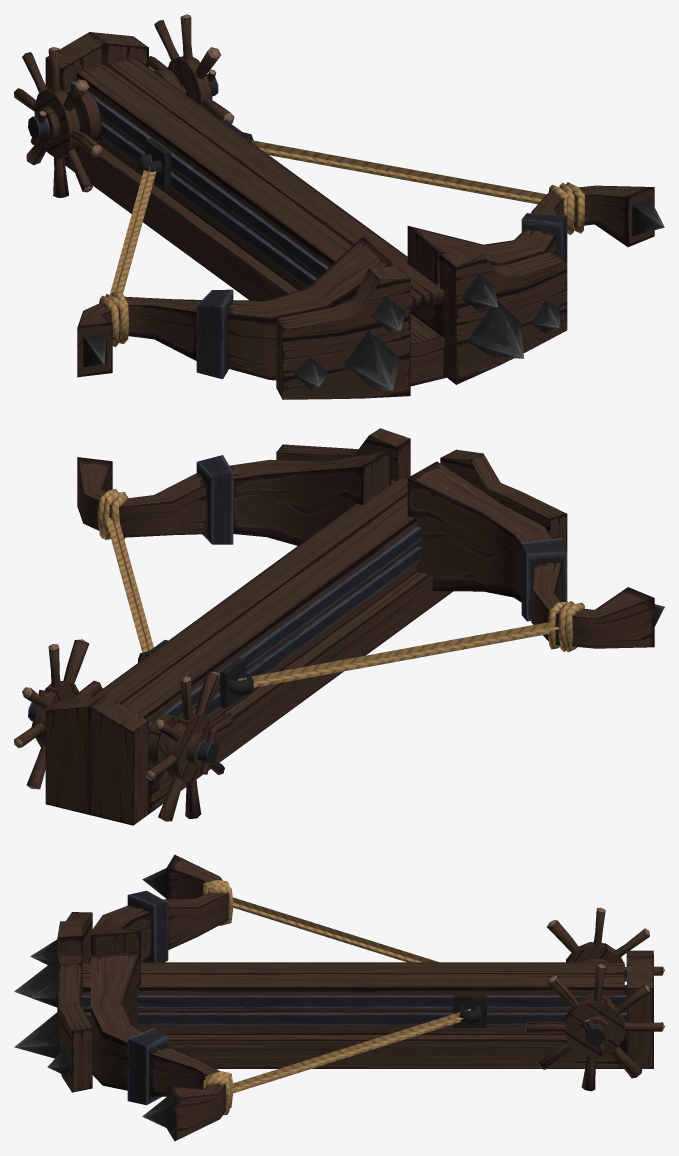
Rendered from SM_PROP_ballista_barrel_battle.fbx.
The picture shows the model from 3 angles, top to bottom: view 1: azimuth 30°, elevation 25°; view 2: azimuth 150°, elevation 25°; view 3: azimuth 270°, elevation 25°; orthographic projection. The views are drawn at different scales.
Visible parts, largest first — view 1: SM_PROP_ballista_barrel_battle, SM_PROP_ballista_winch_battle, SM_PROP_ballista_rope_L_battle, SM_PROP_ballista_rope_R_battle, SM_PROP_ballista_handle_battle; view 2: SM_PROP_ballista_barrel_battle, SM_PROP_ballista_winch_battle, SM_PROP_ballista_rope_R_battle, SM_PROP_ballista_rope_L_battle, SM_PROP_ballista_handle_battle; view 3: SM_PROP_ballista_barrel_battle, SM_PROP_ballista_winch_battle, SM_PROP_ballista_rope_L_battle, SM_PROP_ballista_rope_R_battle, SM_PROP_ballista_handle_battle.
Boxes of the visible parts, box(x1,y1,x2,y2) form: SM_PROP_ballista_barrel_battle: box(45, 32, 664, 399); SM_PROP_ballista_winch_battle: box(14, 14, 234, 197); SM_PROP_ballista_rope_L_battle: box(252, 140, 546, 204); SM_PROP_ballista_rope_R_battle: box(109, 159, 156, 295); SM_PROP_ballista_handle_battle: box(138, 120, 253, 188); SM_PROP_ballista_barrel_battle: box(45, 428, 664, 825); SM_PROP_ballista_winch_battle: box(14, 639, 234, 821); SM_PROP_ballista_rope_R_battle: box(238, 621, 559, 687); SM_PROP_ballista_rope_L_battle: box(105, 514, 153, 652); SM_PROP_ballista_handle_battle: box(138, 640, 253, 708); SM_PROP_ballista_barrel_battle: box(14, 854, 653, 1141); SM_PROP_ballista_winch_battle: box(525, 907, 664, 1091); SM_PROP_ballista_rope_L_battle: box(231, 1008, 470, 1093); SM_PROP_ballista_rope_R_battle: box(231, 897, 438, 962); SM_PROP_ballista_handle_battle: box(453, 995, 486, 1027).
Size of the model in its own units: 302 by 73.11 by 340.
